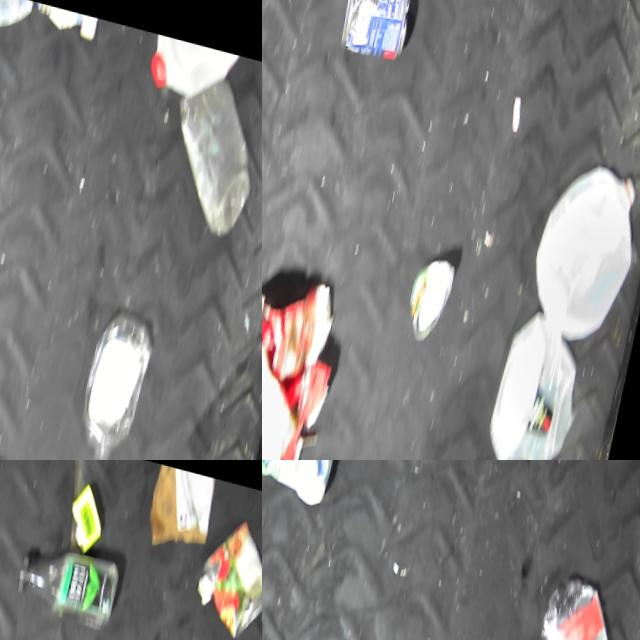can: (191, 497, 262, 634), (404, 239, 464, 338), (336, 0, 422, 64), (63, 468, 112, 547)
milk_jug: (522, 136, 640, 341), (484, 293, 598, 460), (145, 22, 243, 99)
plastic_bottle: (74, 289, 163, 460), (14, 529, 124, 624), (529, 559, 630, 640), (385, 443, 487, 460)
